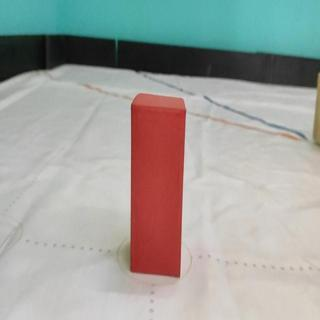redbox: (129, 93, 188, 277)
